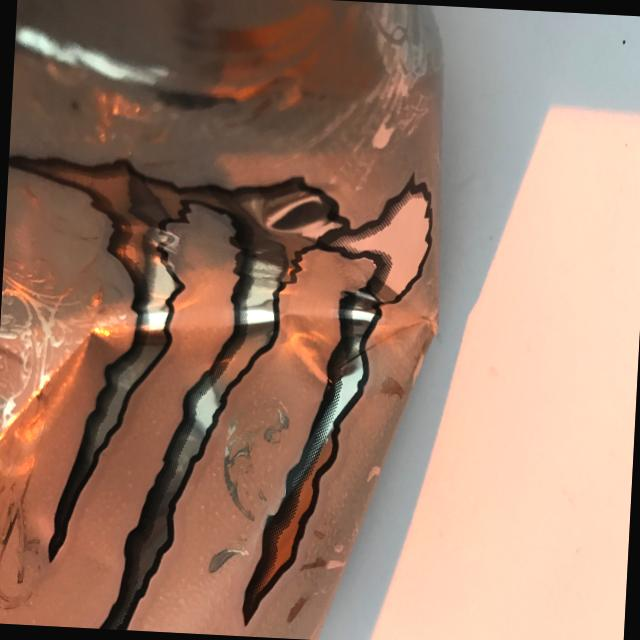Metal: (0, 0, 478, 640)
